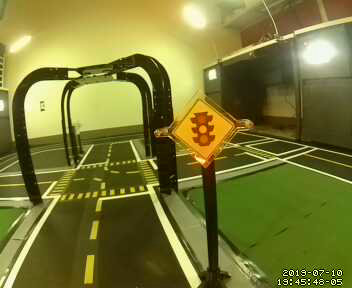Traffic light sign: (175, 97, 235, 158)
